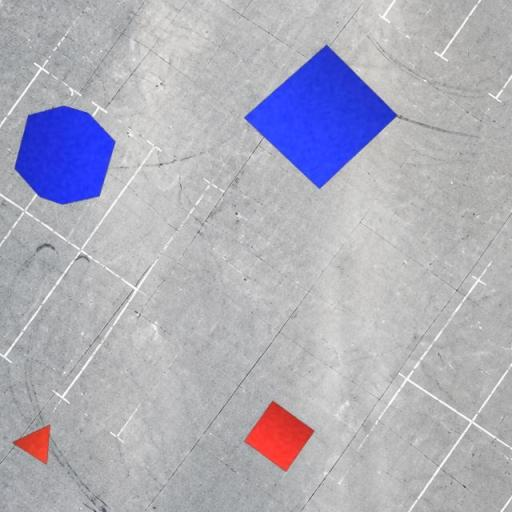BLUE_SQUARE: (244, 44, 398, 190)
RED_SQUARE: (244, 400, 315, 473)
